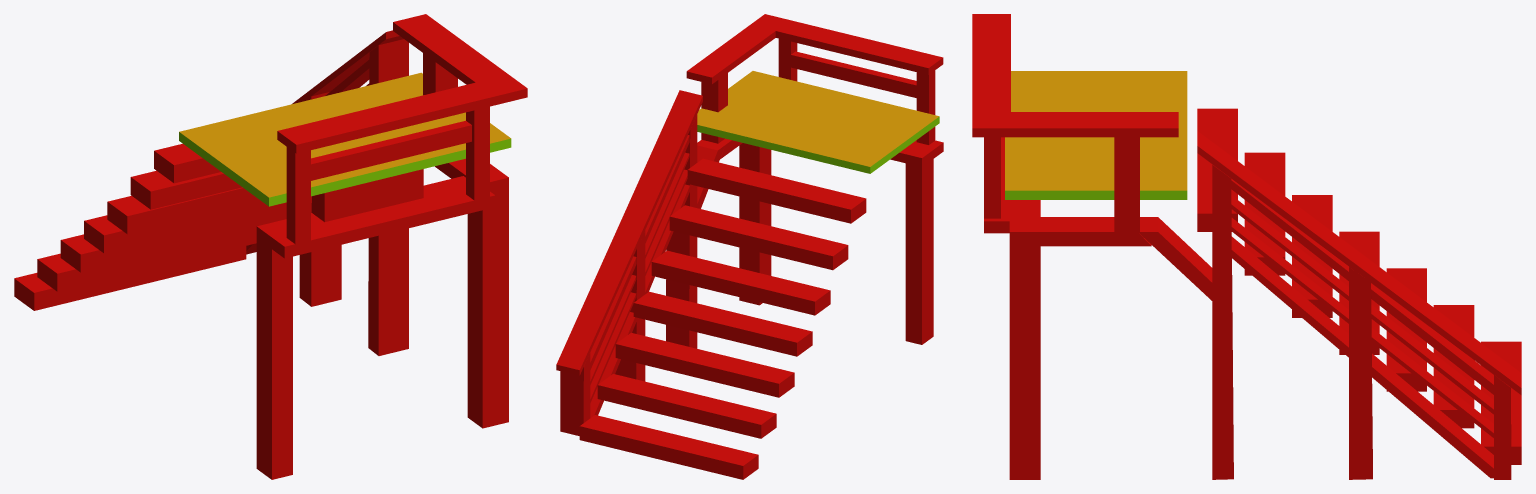
The model's file is StairsRight.fbx.
The picture shows the model from 3 angles, left to right: view 1: azimuth 30°, elevation 25°; view 2: azimuth 150°, elevation 25°; view 3: azimuth 270°, elevation 25°; orthographic projection. The views are drawn at different scales.
Visible parts, largest first — view 1: Stairs_2Peice_Right; view 2: Stairs_2Peice_Right; view 3: Stairs_2Peice_Right.
Part boxes in pixels (x1,y1,x2,y2): Stairs_2Peice_Right: (14, 14, 527, 479); Stairs_2Peice_Right: (556, 14, 943, 479); Stairs_2Peice_Right: (972, 14, 1521, 479).
Size of the model in its own units: 200 by 274 by 387.
